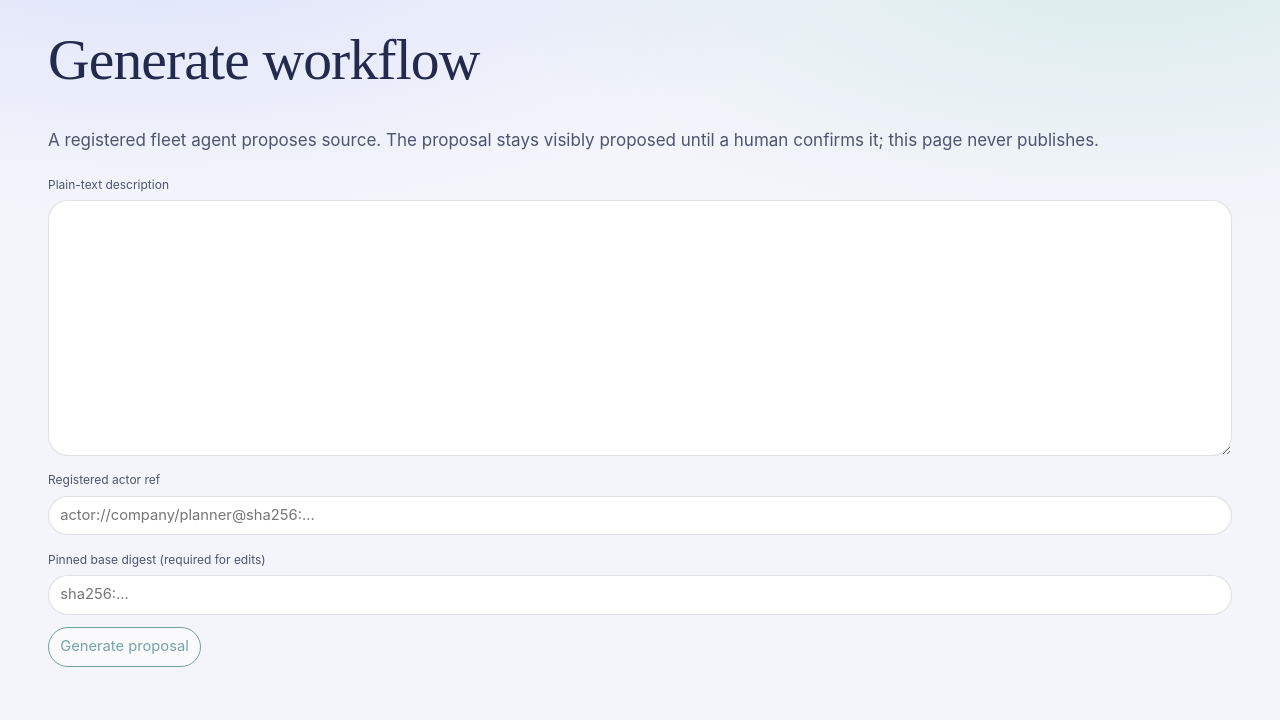
GenerateWorkflow › withholds the publish door from a confirmed proposal that does not compile
Type "sweep open PRs and triage them" into the text box labelled "Plain-text description".
click(640, 328); type("sweep open PRs and triage them")  # box [48, 200, 1232, 456]
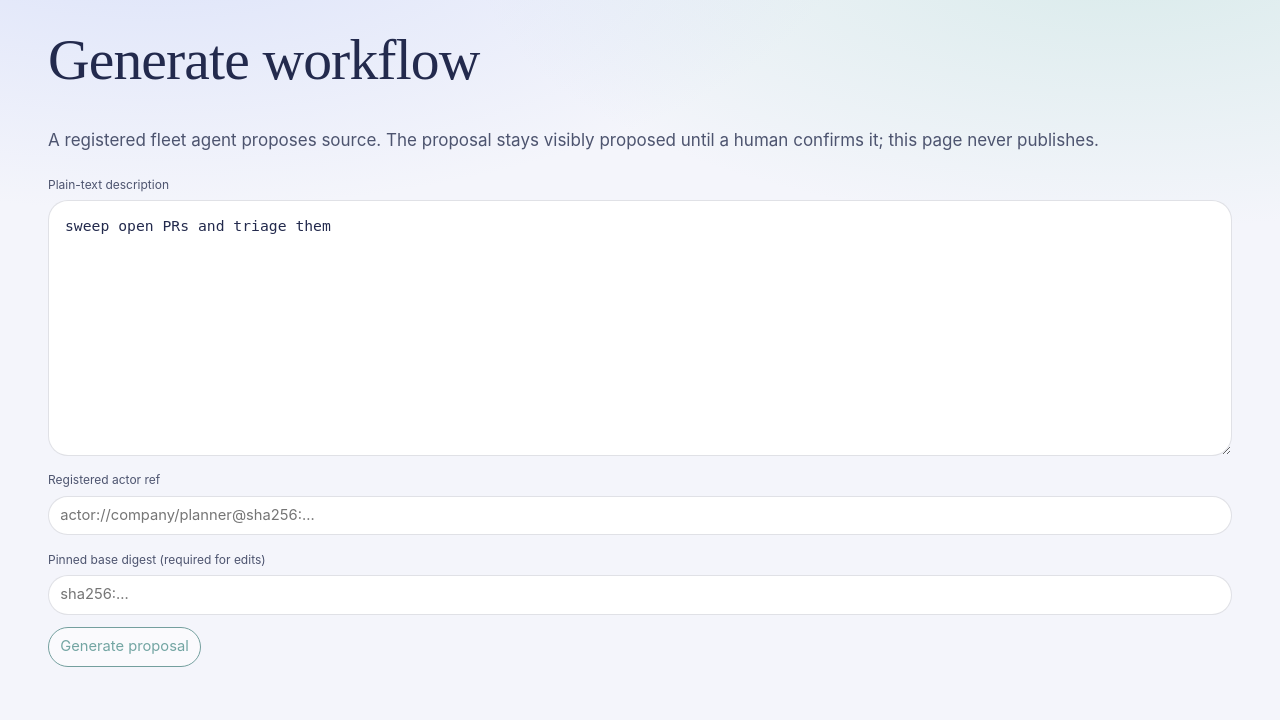
Type "actor://company/planner@sha256:aaaa" into the field labelled "Registered actor ref".
click(640, 515); type("actor://company/planner@sha256:aaaa")  # box [48, 496, 1232, 535]
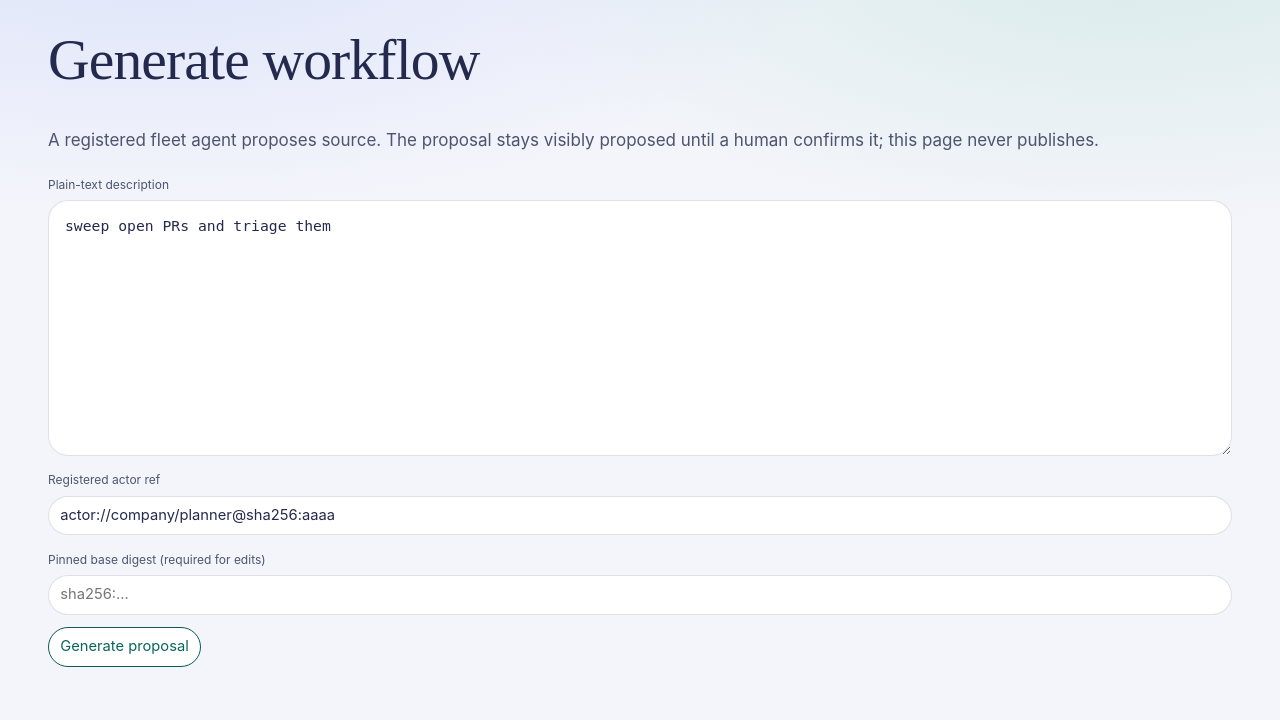
Click the button "Generate proposal".
click(124, 647)  # box [48, 627, 201, 666]
(page scrolled)
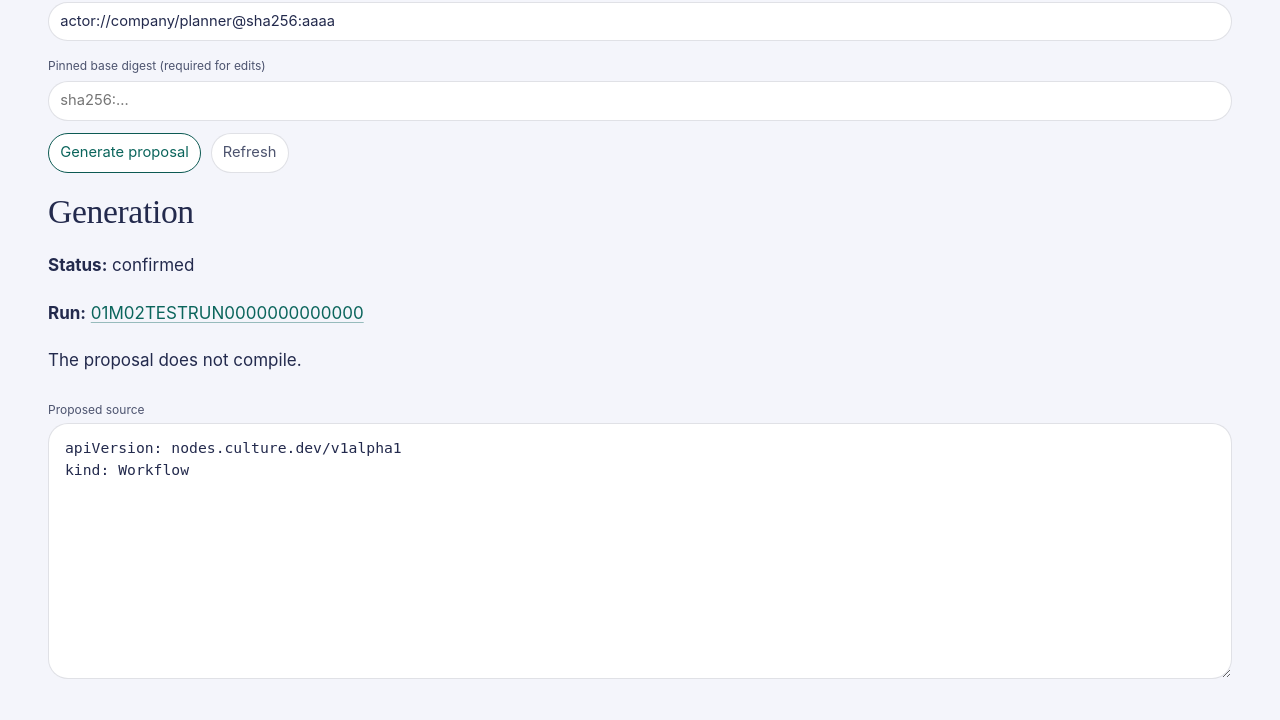
expect the text "The proposal does not compile." is shown: met, box [48, 350, 302, 370]
